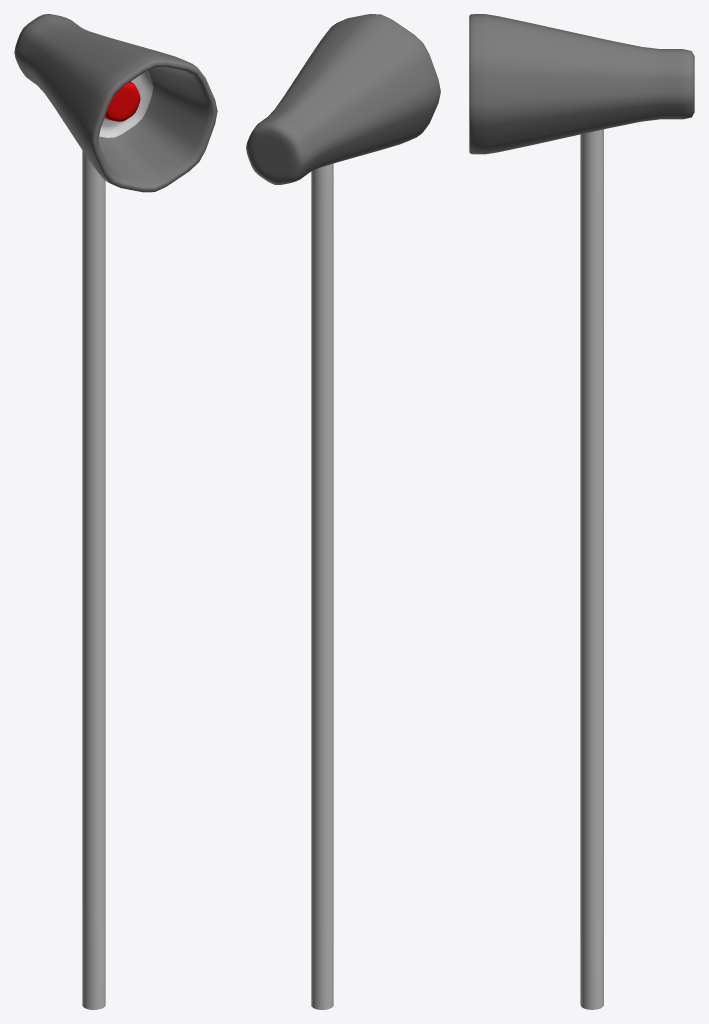
The model's file is Speaker.fbx.
3 renders of one model, left to right at view 1: azimuth 30°, elevation 25°; view 2: azimuth 150°, elevation 25°; view 3: azimuth 270°, elevation 25°, orthographic. The views are drawn at different scales.
Visible parts, largest first — view 1: Speaker1; view 2: Speaker1; view 3: Speaker1.
Part boxes in pixels (<box>): Speaker1: <box>14,14,217,1009</box>; Speaker1: <box>246,14,440,1009</box>; Speaker1: <box>469,14,694,1009</box>.
Size of the model in its own units: 2.86 by 21.43 by 4.44.
